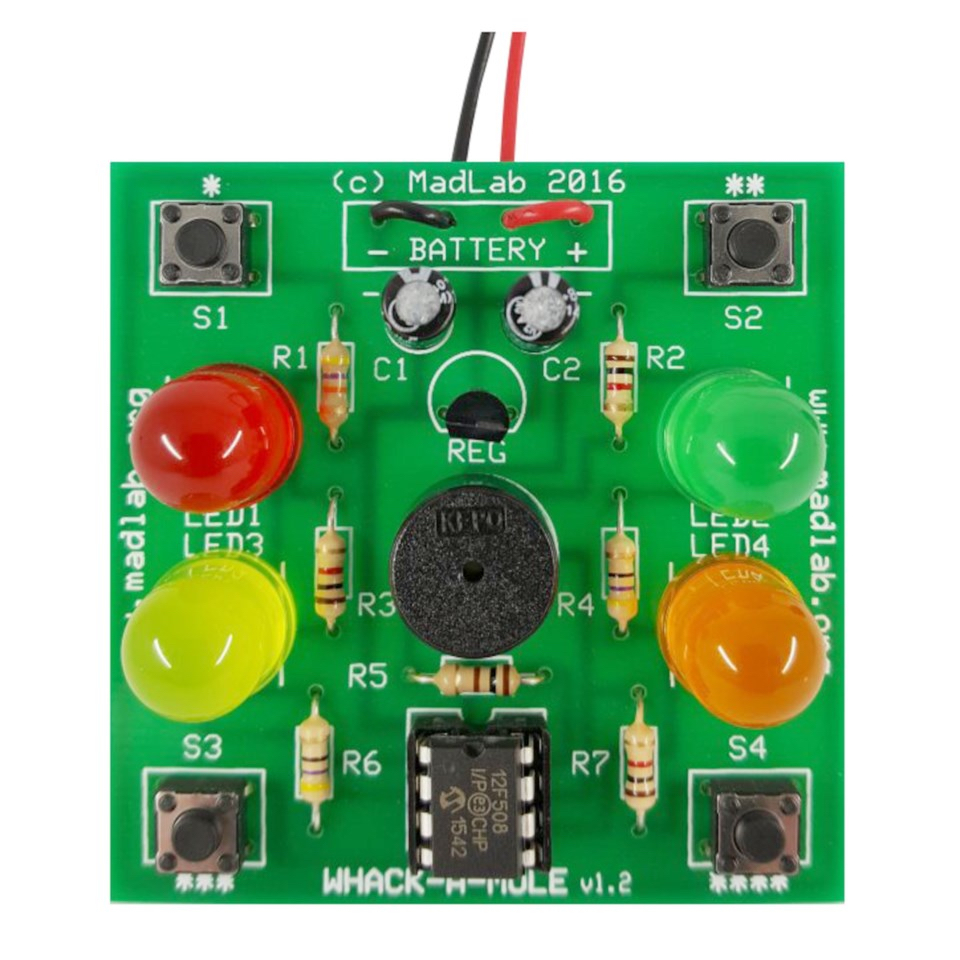Capacitor: (499, 269, 582, 356), (381, 264, 458, 351)
LED: (120, 550, 299, 724), (656, 555, 826, 729), (654, 367, 828, 523), (129, 361, 304, 515)
Resistor: (316, 341, 353, 435), (312, 528, 349, 621), (622, 723, 660, 812), (295, 714, 332, 804), (602, 337, 637, 427), (604, 530, 637, 623), (436, 663, 523, 697)
